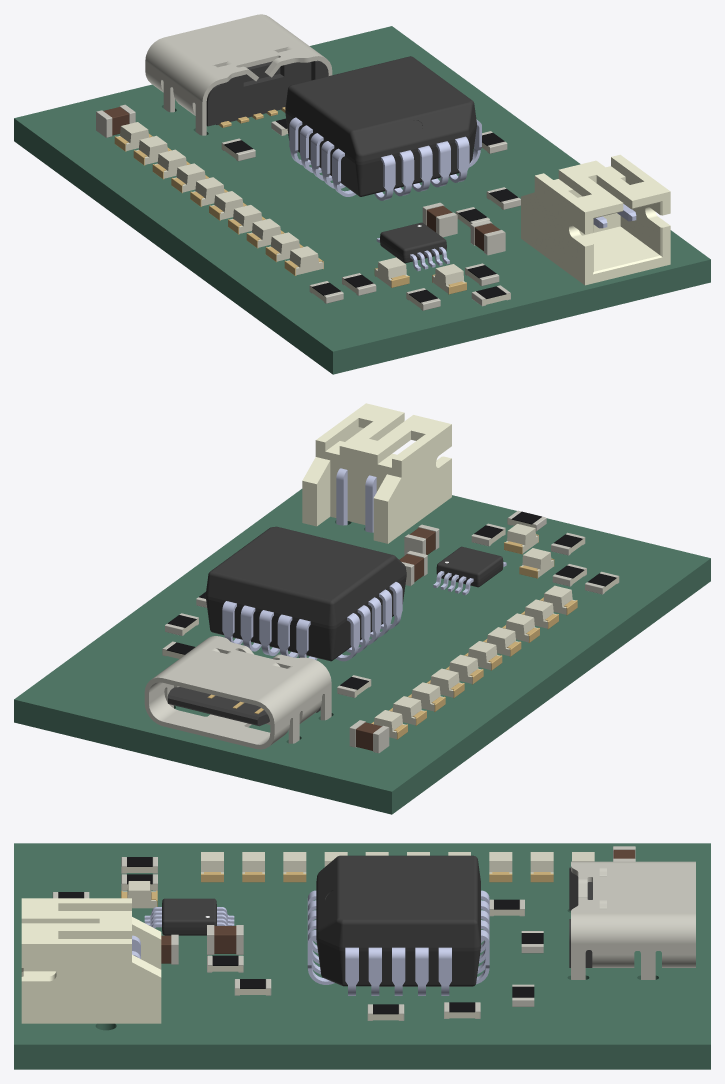
The picture shows the model from 3 angles, top to bottom: view 1: azimuth 30°, elevation 25°; view 2: azimuth 150°, elevation 25°; view 3: azimuth 270°, elevation 25°; orthographic projection. The views are drawn at different scales.
Parts seen in each view (by area): view 1: =>[0:1:1:16], =>[0:1:1:13], =>[0:1:1:11], =>[0:1:1:15], =>[0:1:1:3] (×12), =>[0:1:1:7] (×3), =>[0:1:1:9]; view 2: =>[0:1:1:16], =>[0:1:1:13], =>[0:1:1:11], =>[0:1:1:15], =>[0:1:1:3] (×11), =>[0:1:1:7] (×3), =>[0:1:1:9]; view 3: =>[0:1:1:16], =>[0:1:1:13], =>[0:1:1:11], =>[0:1:1:15], =>[0:1:1:5] (×9), =>[0:1:1:3] (×6), =>[0:1:1:9], =>[0:1:1:7] (×2).
Part boxes in pixels (x1,y1,x2,y2): =>[0:1:1:16]: (14, 26, 710, 374); =>[0:1:1:13]: (285, 56, 481, 200); =>[0:1:1:11]: (521, 154, 670, 285); =>[0:1:1:15]: (145, 14, 332, 135); =>[0:1:1:3] (×12): (114, 122, 466, 294); =>[0:1:1:7] (×3): (96, 104, 505, 255); =>[0:1:1:9]: (376, 222, 449, 271); =>[0:1:1:16]: (14, 489, 710, 814); =>[0:1:1:13]: (205, 526, 406, 661); =>[0:1:1:11]: (302, 403, 451, 543); =>[0:1:1:15]: (144, 636, 331, 749); =>[0:1:1:3] (×11): (389, 524, 577, 725); =>[0:1:1:7] (×3): (349, 524, 439, 753); =>[0:1:1:9]: (433, 546, 506, 595); =>[0:1:1:16]: (14, 843, 710, 1069); =>[0:1:1:13]: (307, 855, 489, 995); =>[0:1:1:11]: (21, 898, 161, 1023); =>[0:1:1:15]: (569, 861, 695, 979); =>[0:1:1:5] (×9): (121, 857, 543, 1020); =>[0:1:1:3] (×6): (121, 852, 553, 908); =>[0:1:1:9]: (144, 898, 234, 935); =>[0:1:1:7] (×2): (161, 925, 243, 964).
Bounding box in the file's own units: 0.026 × 0.00818 × 0.038.
